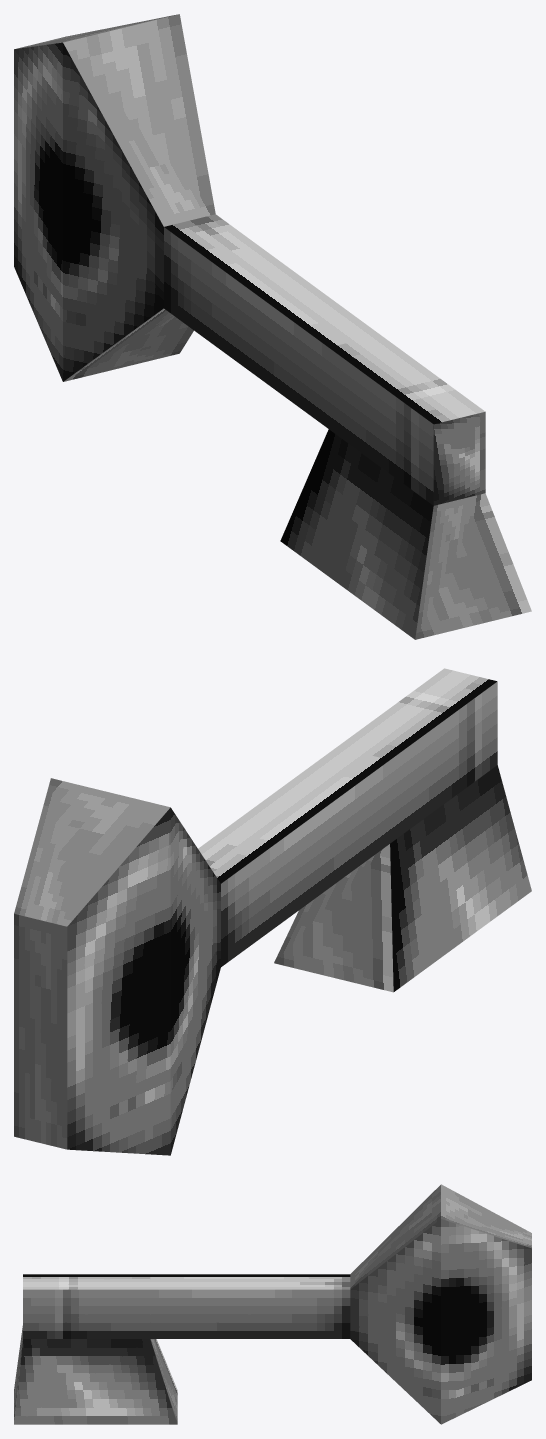
The picture shows the model from 3 angles, top to bottom: view 1: azimuth 30°, elevation 25°; view 2: azimuth 150°, elevation 25°; view 3: azimuth 270°, elevation 25°; orthographic projection. The views are drawn at different scales.
Parts seen in each view (by area): view 1: prim036-Box10; view 2: prim036-Box10; view 3: prim036-Box10.
Boxes of the visible parts, left/top/right/bottom form: prim036-Box10: left=14, top=14, right=531, bottom=639; prim036-Box10: left=14, top=668, right=531, bottom=1155; prim036-Box10: left=14, top=1184, right=531, bottom=1424.
Size of the model in its own units: 9 by 25 by 57.
1 material, 1 textured.
